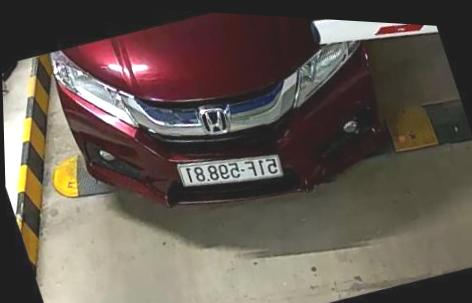License_Plate: (171, 142, 285, 198)
